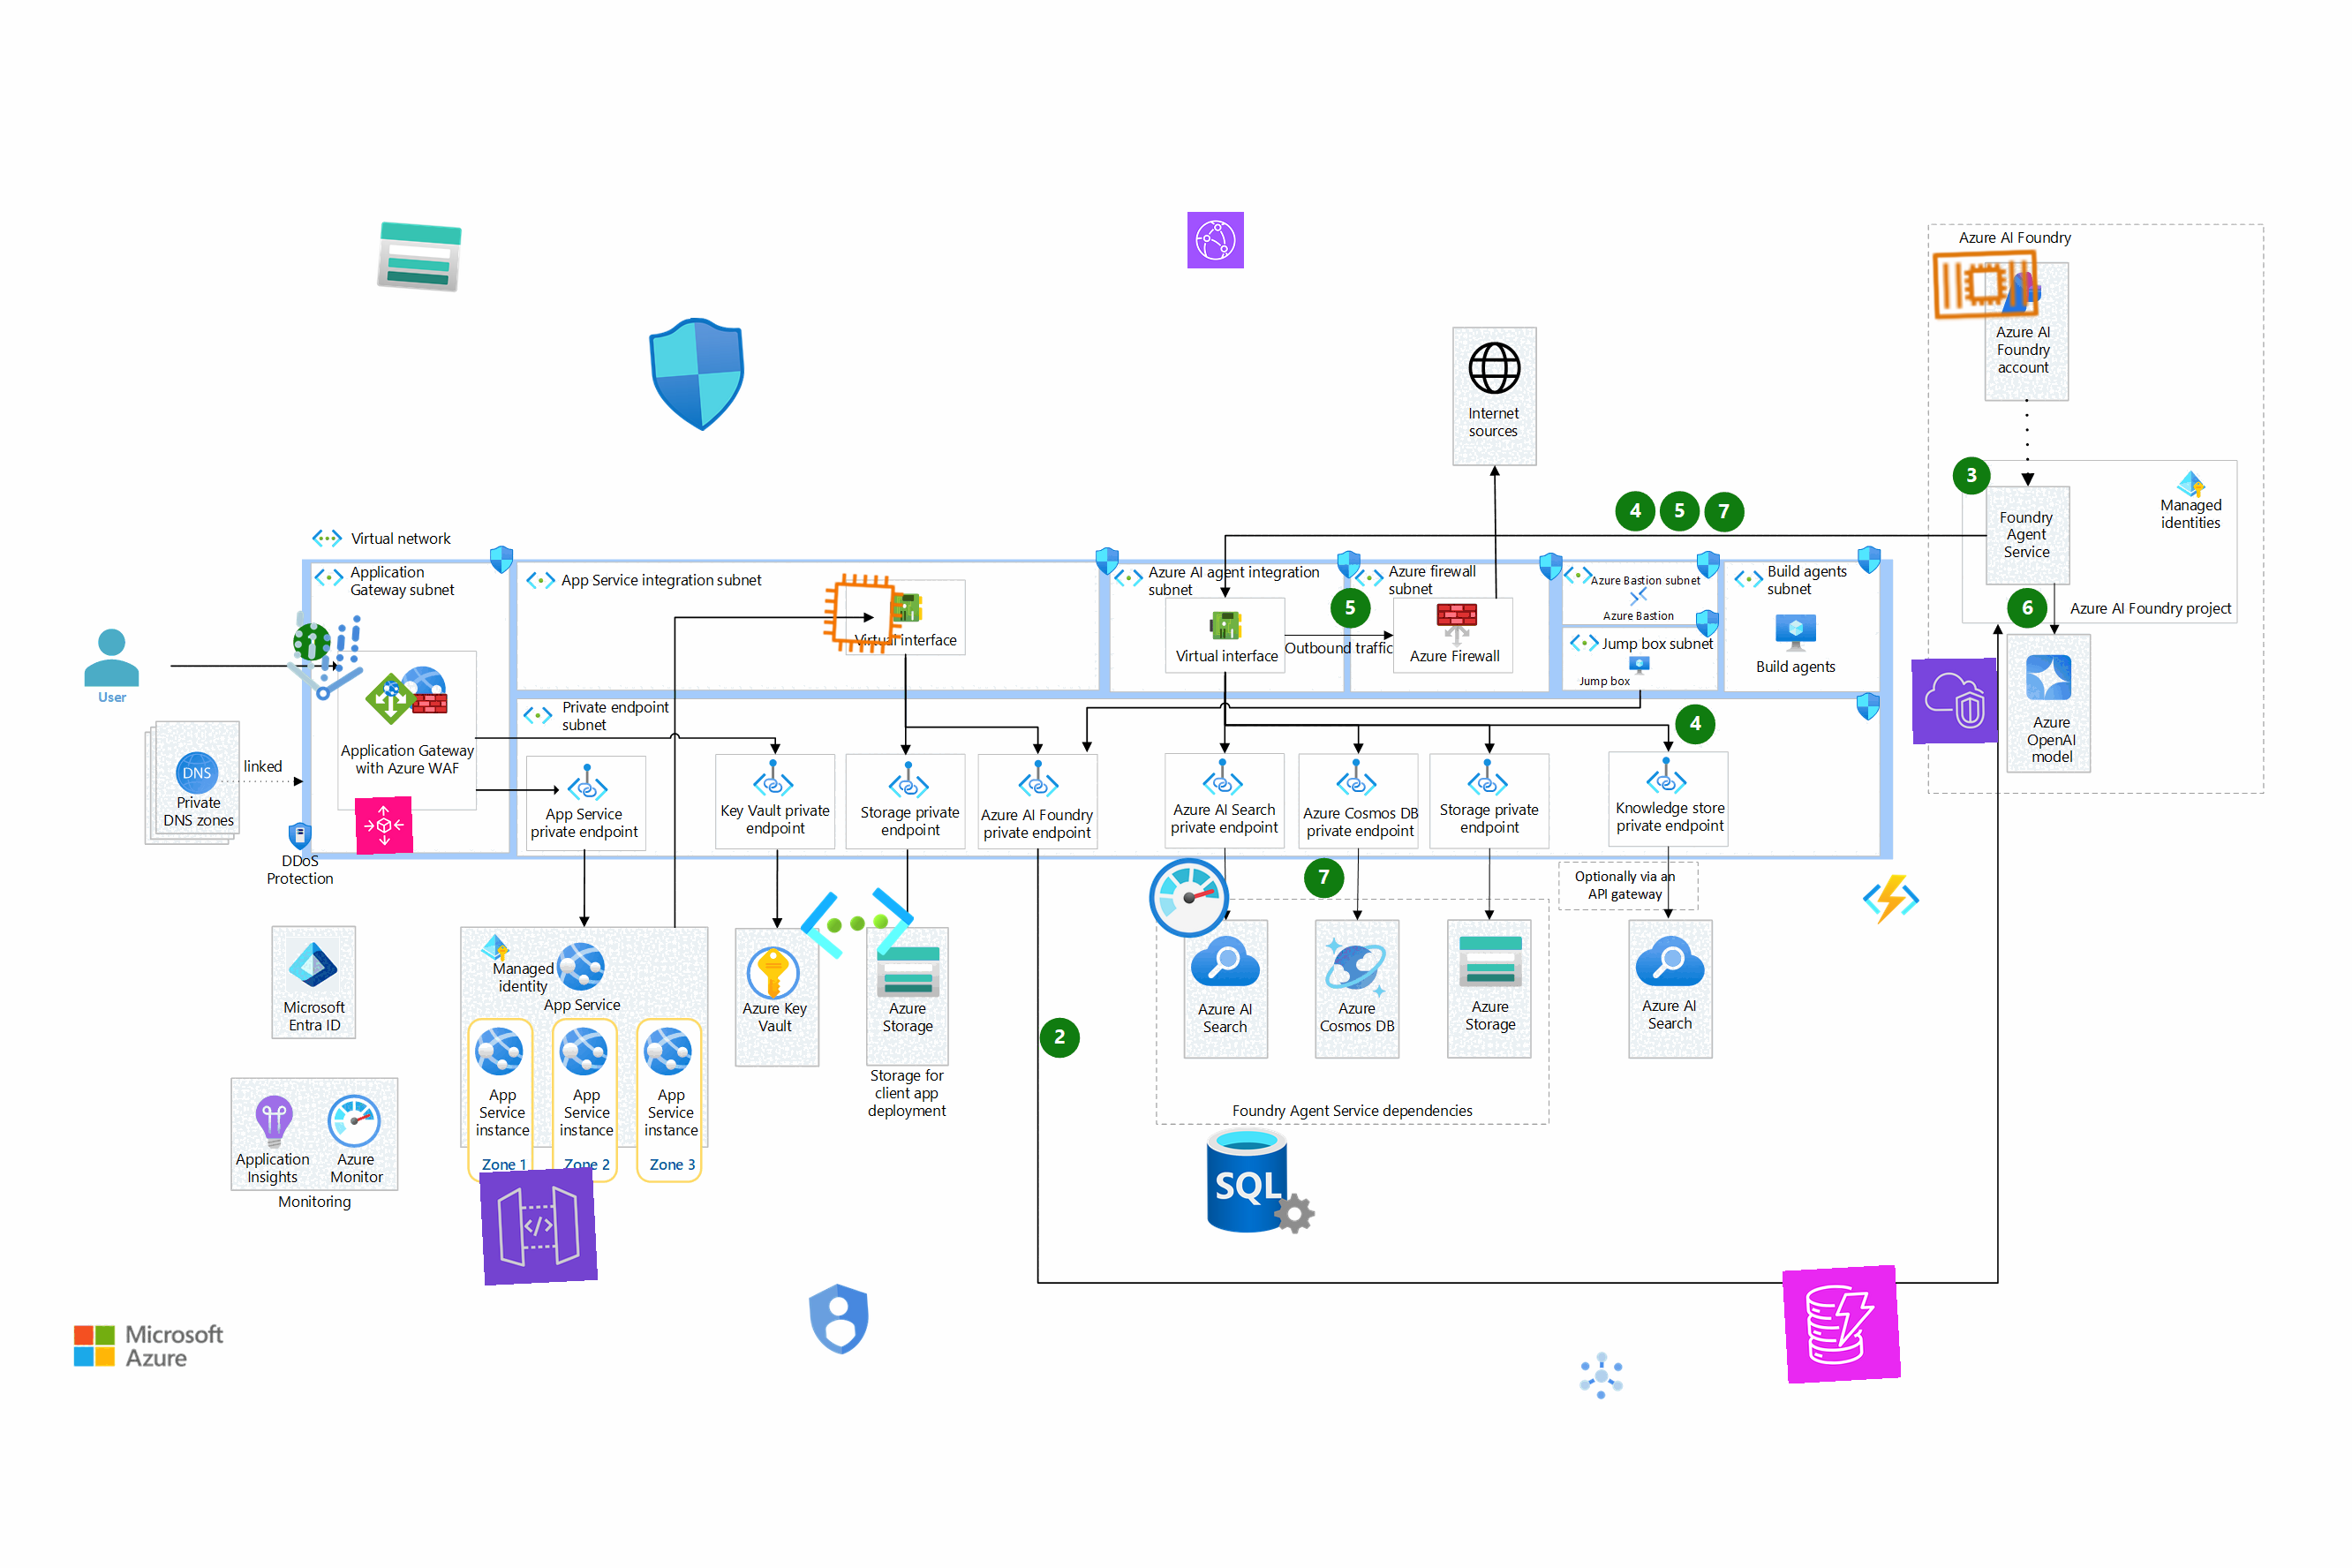aws_amazon_api_gateway: (478, 1165, 598, 1286)
aws_amazon_cloudfront: (1186, 212, 1244, 269)
aws_amazon_dynamodb: (1781, 1263, 1902, 1384)
aws_amazon_virtual_private_cloud: (1911, 658, 1999, 744)
aws_auto_scaling: (353, 796, 415, 856)
aws_ec2_instance: (819, 569, 908, 658)
aws_elastic_container_service_container_2: (1927, 226, 2044, 343)
azure_function_apps: (1860, 870, 1922, 929)
azure_monitor: (1143, 852, 1235, 943)
azure_network_security_groups: (637, 313, 759, 436)
azure_sql_server: (1204, 1123, 1318, 1237)
azure_storage_accounts: (373, 212, 465, 303)
azure_virtual_networks: (796, 861, 919, 985)
gcp_identity_and_access_management: (794, 1272, 885, 1365)
gcp_pubsub: (1573, 1346, 1631, 1405)
gcp_vertex_ai: (264, 597, 387, 717)
